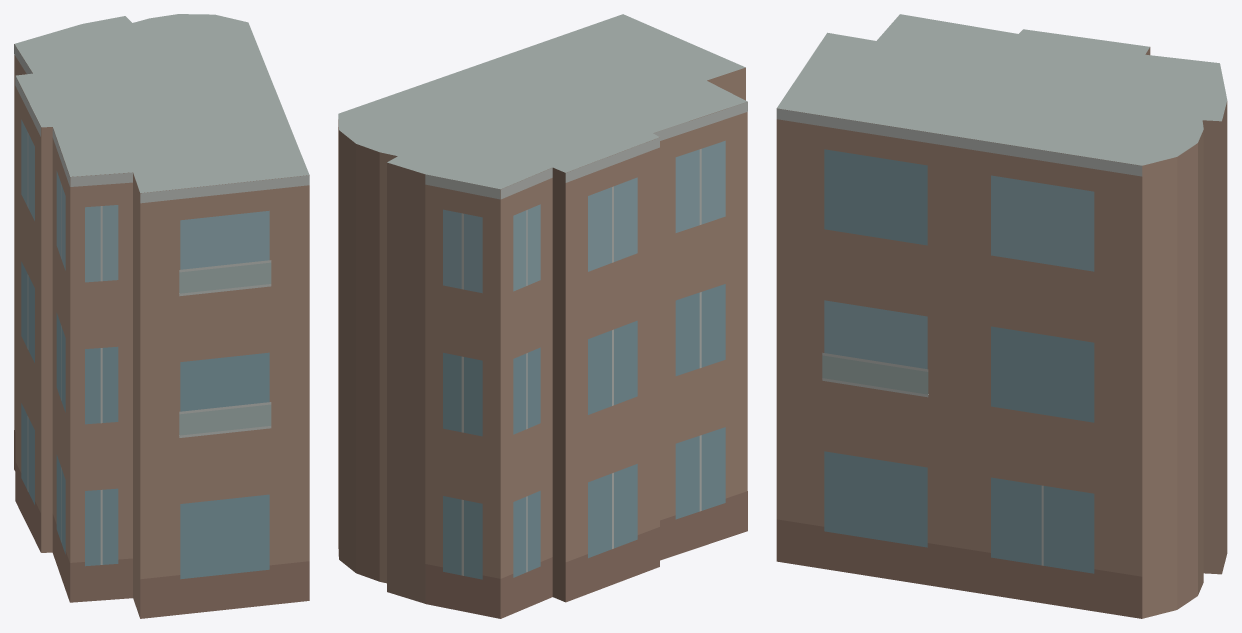
The model's file is survey-upis-32516504.glb.
3 renders of one model, left to right at view 1: azimuth 30°, elevation 25°; view 2: azimuth 150°, elevation 25°; view 3: azimuth 270°, elevation 25°, orthographic. The views are drawn at different scales.
Parts seen in each view (by area): view 1: survey-upis-32516504.tmp; view 2: survey-upis-32516504.tmp; view 3: survey-upis-32516504.tmp.
Boxes of the visible parts, bbox=[...] form: survey-upis-32516504.tmp: bbox=[14, 14, 309, 618]; survey-upis-32516504.tmp: bbox=[338, 14, 747, 618]; survey-upis-32516504.tmp: bbox=[776, 14, 1227, 618].
Size of the model in its own units: 7.33 by 10.2 by 9.21.
